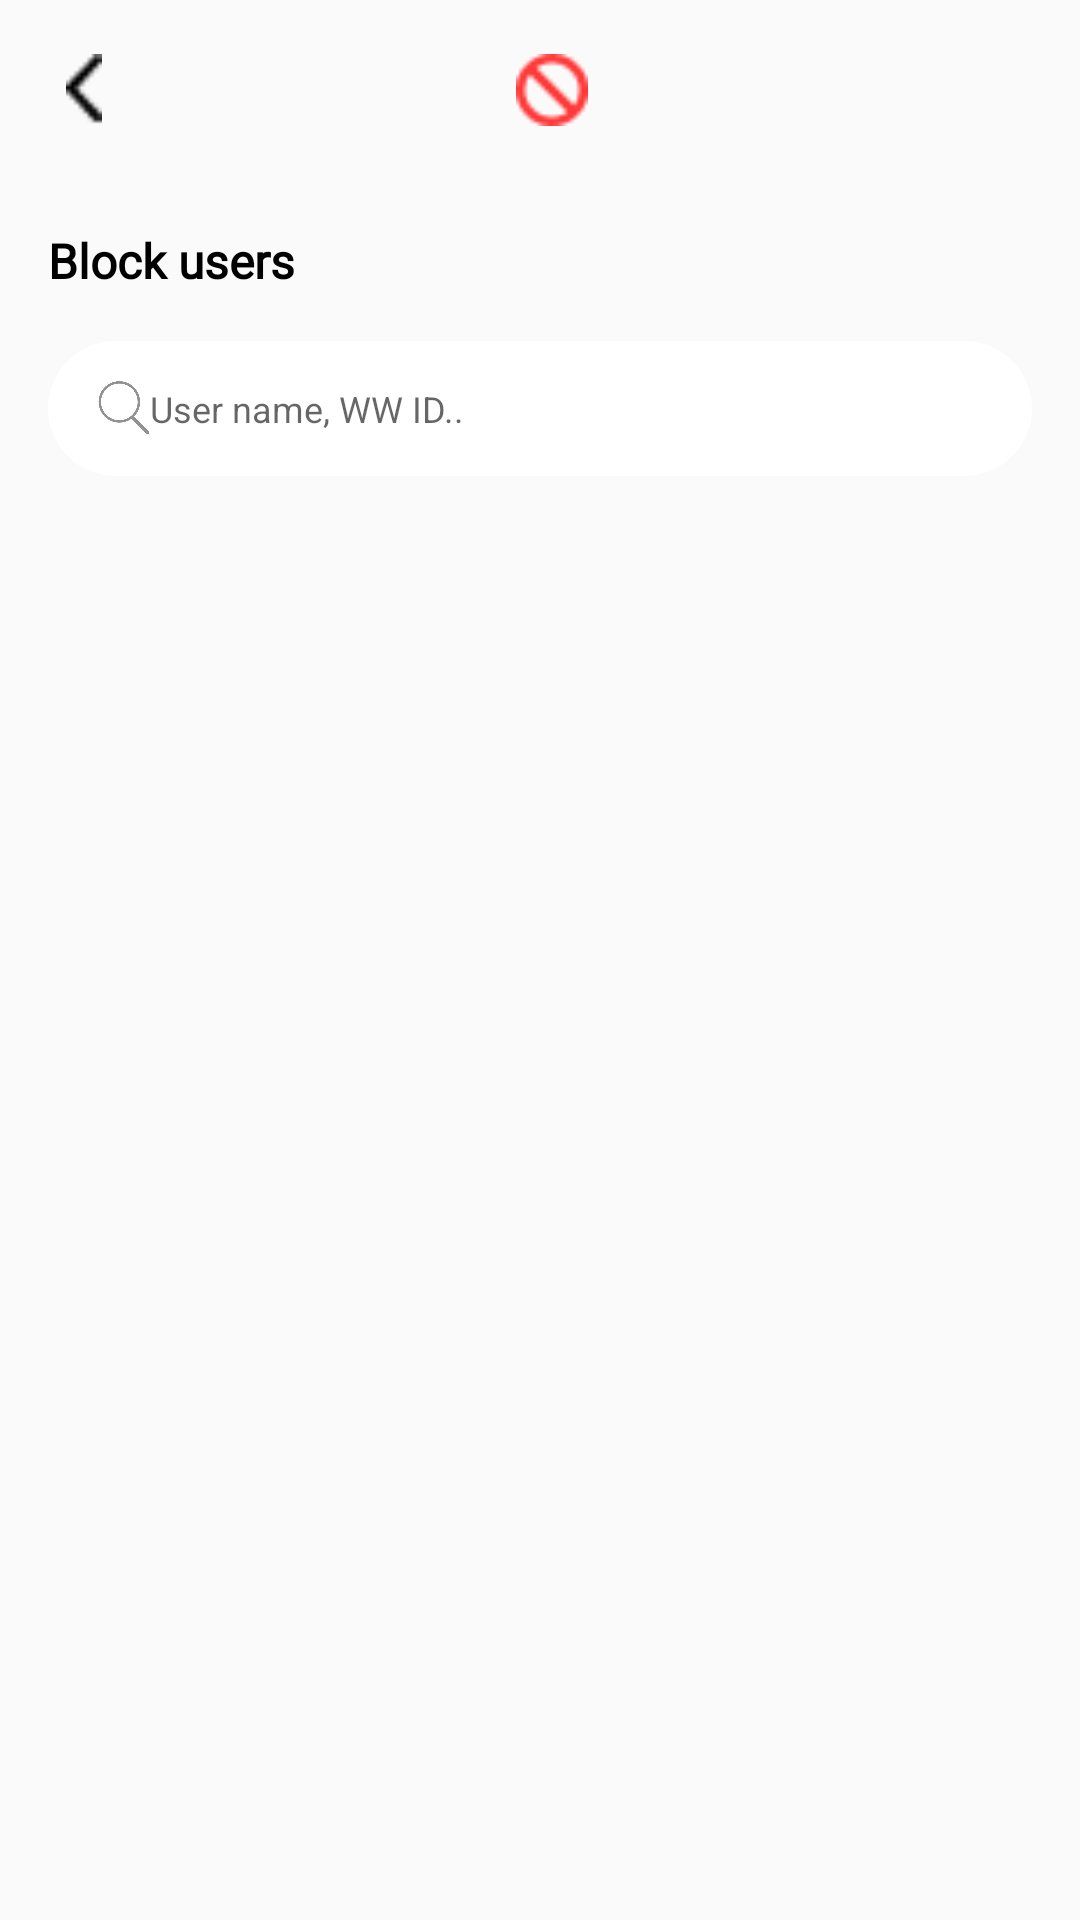

Named icons in this screenshot (1080w x 1920h) and their centers, (x,y):
backk: (84,88)
